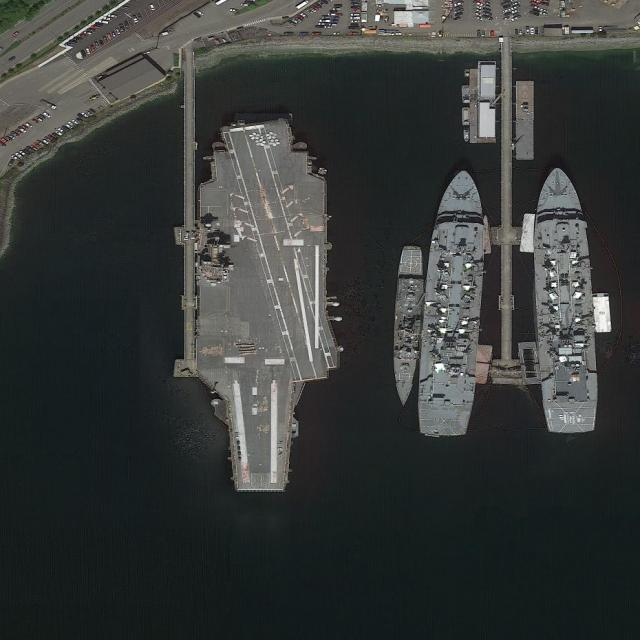Aircraft Carrier: (193, 118, 343, 493)
Auxiliary Ships: (413, 166, 493, 438), (529, 167, 600, 436)
Dock: (493, 40, 520, 383), (173, 71, 198, 380)
Frigate: (391, 244, 424, 407)
Other Ship: (461, 107, 469, 127), (461, 85, 469, 104), (463, 130, 470, 142), (465, 70, 470, 78)
